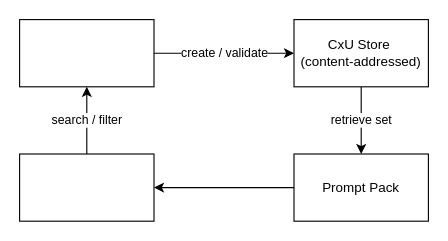
Some shapes in this 448 by 241 pixel diagram are drawn without their labels. The shapes that lost their labels are listed below. From the top down, each one's centre as x and y in pixels, then its label:
(x=86, y=52): Authoring Tools
(x=86, y=187): Query API
